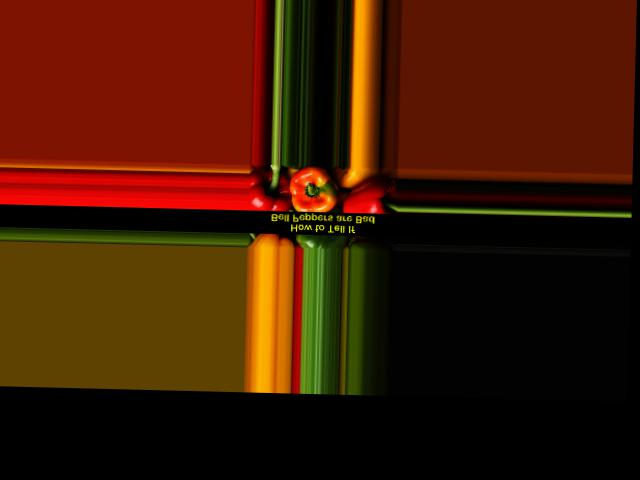bell_pepper: (250, 164, 295, 214)
